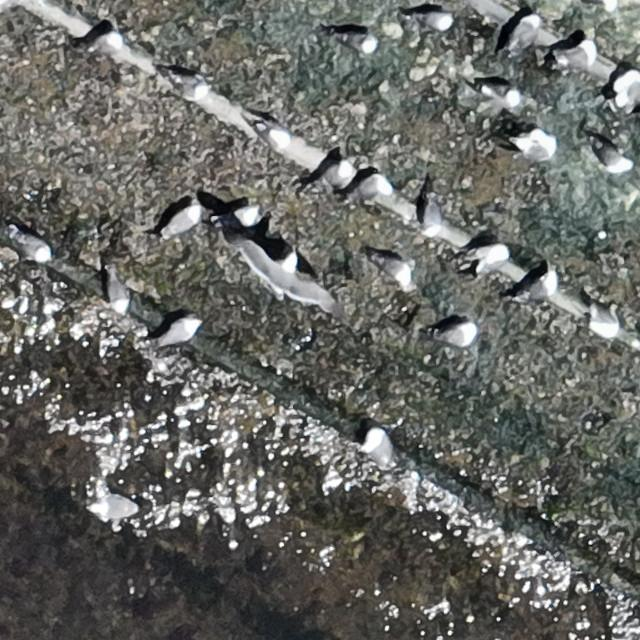F: (228, 240, 327, 310)
umineko: (460, 240, 512, 278), (511, 271, 556, 308), (84, 494, 142, 520), (350, 172, 394, 205), (510, 131, 558, 161), (594, 137, 632, 171), (371, 257, 410, 288), (509, 15, 539, 55), (169, 72, 207, 103), (363, 429, 394, 467), (312, 160, 352, 189), (556, 40, 595, 69), (252, 122, 291, 150), (219, 207, 259, 233), (479, 80, 520, 105), (14, 233, 51, 260), (588, 305, 618, 338), (421, 191, 442, 237), (614, 71, 638, 110), (165, 208, 199, 234), (89, 30, 122, 56), (108, 272, 128, 312), (337, 34, 374, 54), (440, 322, 476, 342), (162, 318, 196, 339), (418, 11, 453, 29)
